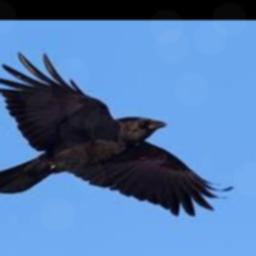Crow: (0, 52, 234, 216)
